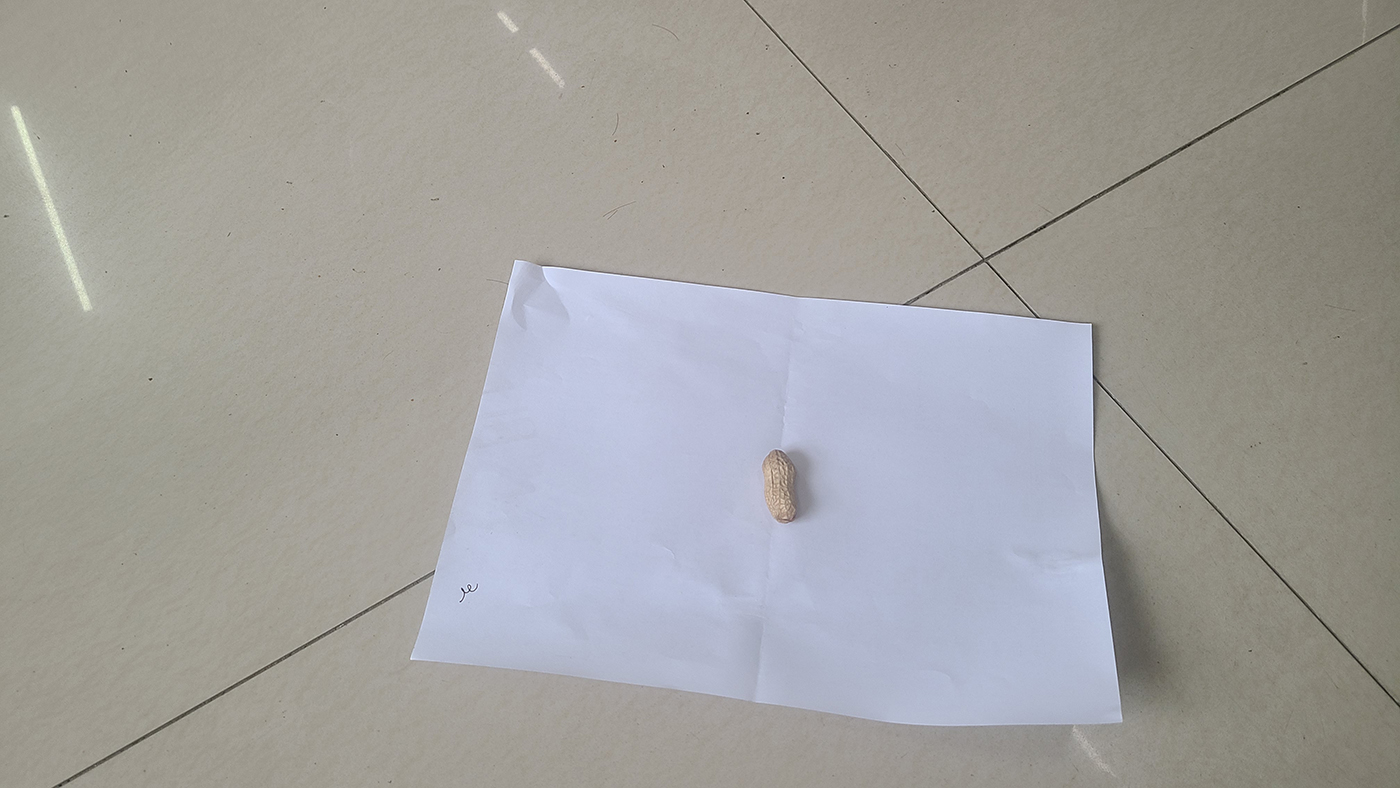h: (761, 448, 805, 523)
